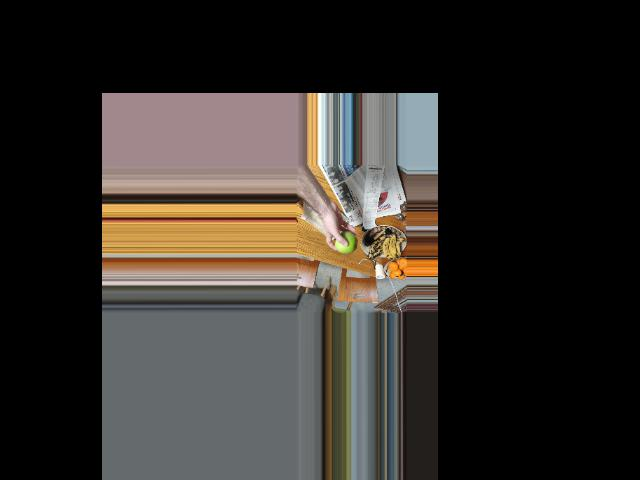apple: (335, 229, 357, 256)
